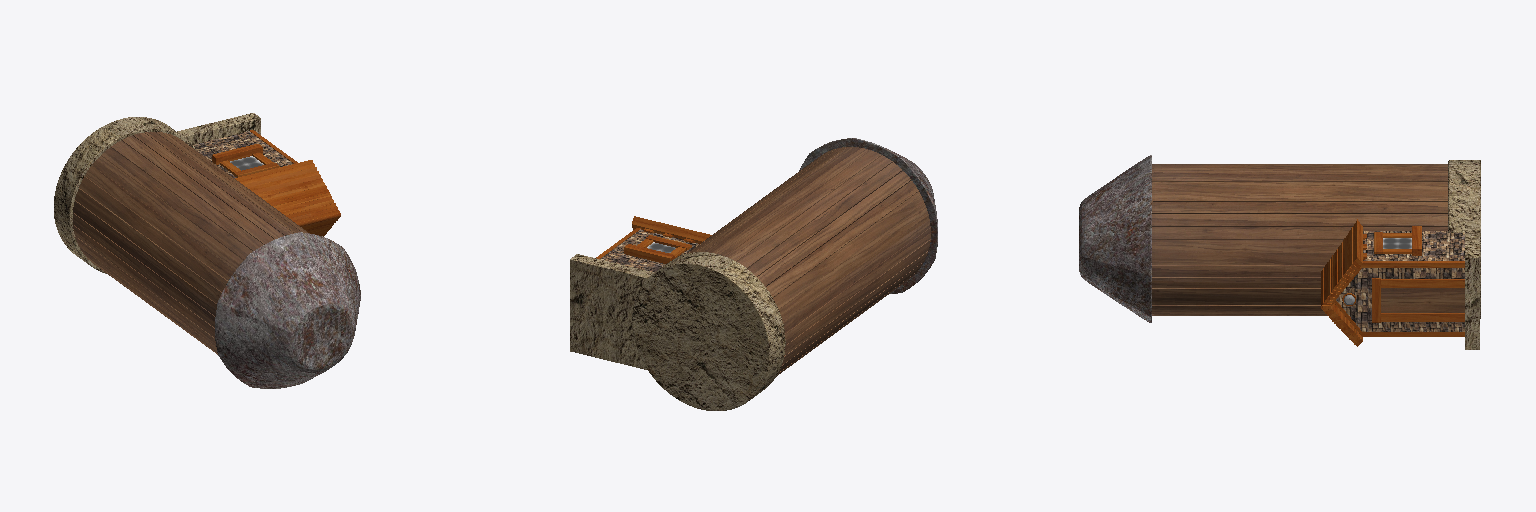
The picture shows the model from 3 angles: view 1: azimuth 30°, elevation 25°; view 2: azimuth 150°, elevation 25°; view 3: azimuth 270°, elevation 25°; orthographic projection.
Visible parts, largest first — view 1: 20954_Farm_Silo; view 2: 20954_Farm_Silo; view 3: 20954_Farm_Silo.
Boxes of the visible parts, <box> form: 20954_Farm_Silo: <box>54,113,360,388</box>; 20954_Farm_Silo: <box>570,138,937,410</box>; 20954_Farm_Silo: <box>1079,155,1480,349</box>.
Bounding box in the file's own units: 5.89 × 4.05 × 9.69.
1 materials, 1 textured.